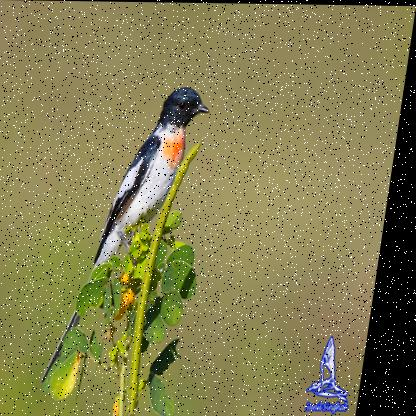Burung: (51, 84, 215, 385)
